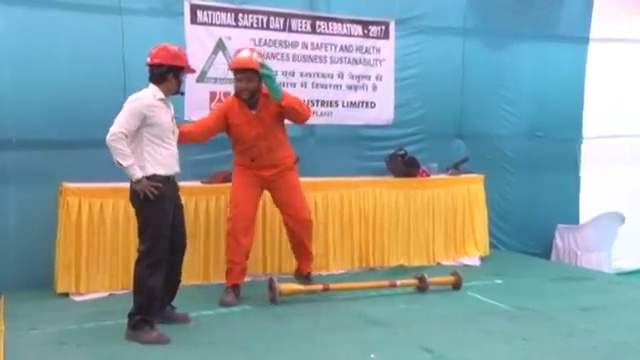helmet: (144, 41, 198, 76), (227, 45, 266, 74)
helmet_on: (144, 41, 200, 99), (226, 45, 267, 104)
person: (170, 43, 318, 308), (105, 40, 199, 346)
